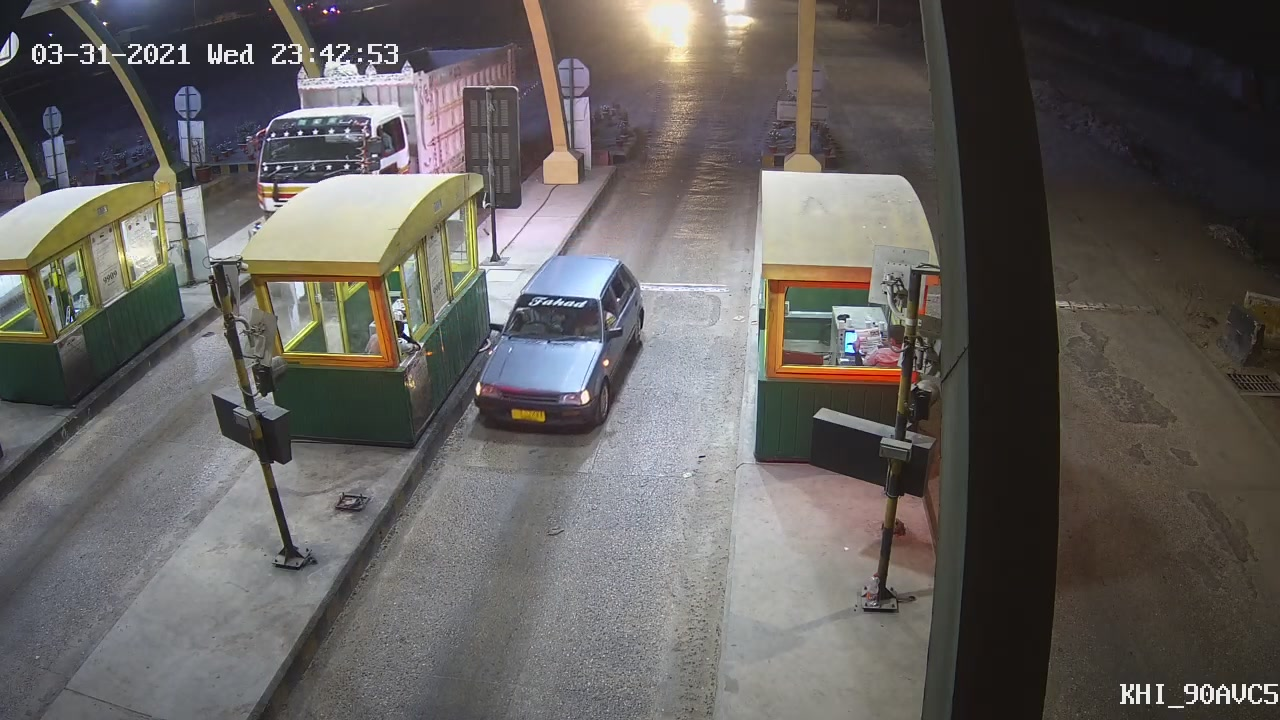F1: (468, 251, 652, 444)
